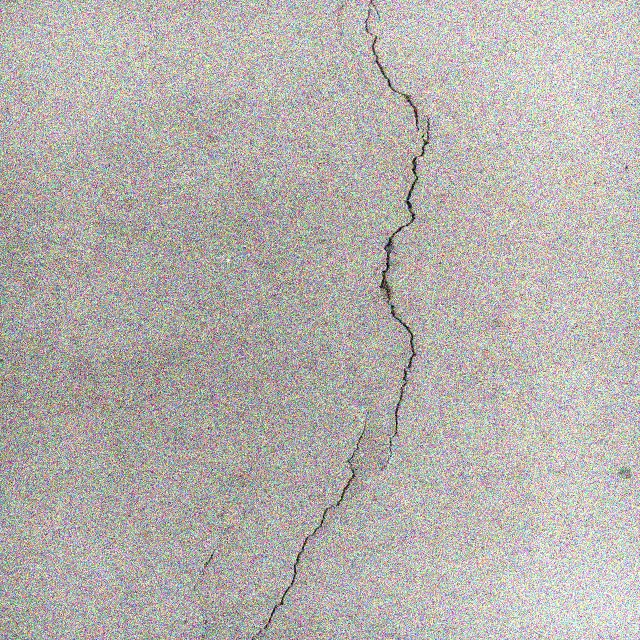SurfaceCrack: (234, 0, 462, 639)
